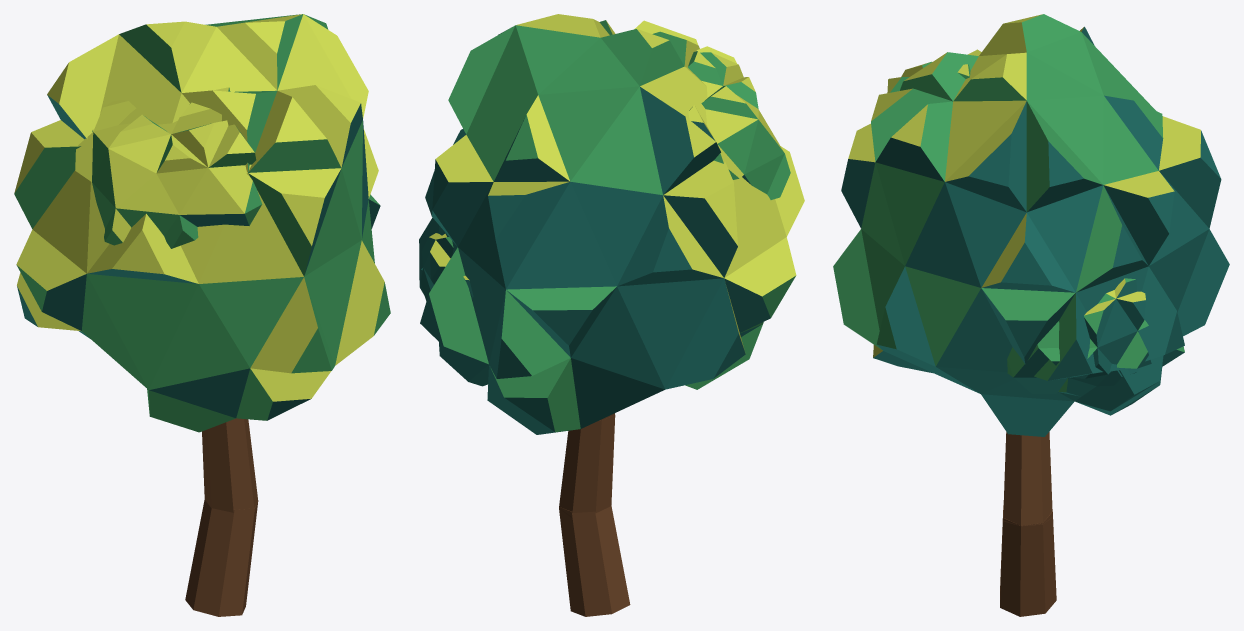
Rendered from Agac_Yumurta_v2.fbx.
3 views of the same model, side by side, from view 1: azimuth 30°, elevation 25°; view 2: azimuth 150°, elevation 25°; view 3: azimuth 270°, elevation 25° (orthographic). The views are drawn at different scales.
Visible parts, largest first — view 1: Agac_Yumurta; view 2: Agac_Yumurta; view 3: Agac_Yumurta.
Part boxes in pixels (x1=…): Agac_Yumurta: x1=14, y1=14, x2=390, y2=616; Agac_Yumurta: x1=419, y1=14, x2=804, y2=616; Agac_Yumurta: x1=833, y1=14, x2=1229, y2=616.
Size of the model in its own units: 226 by 377 by 239.
